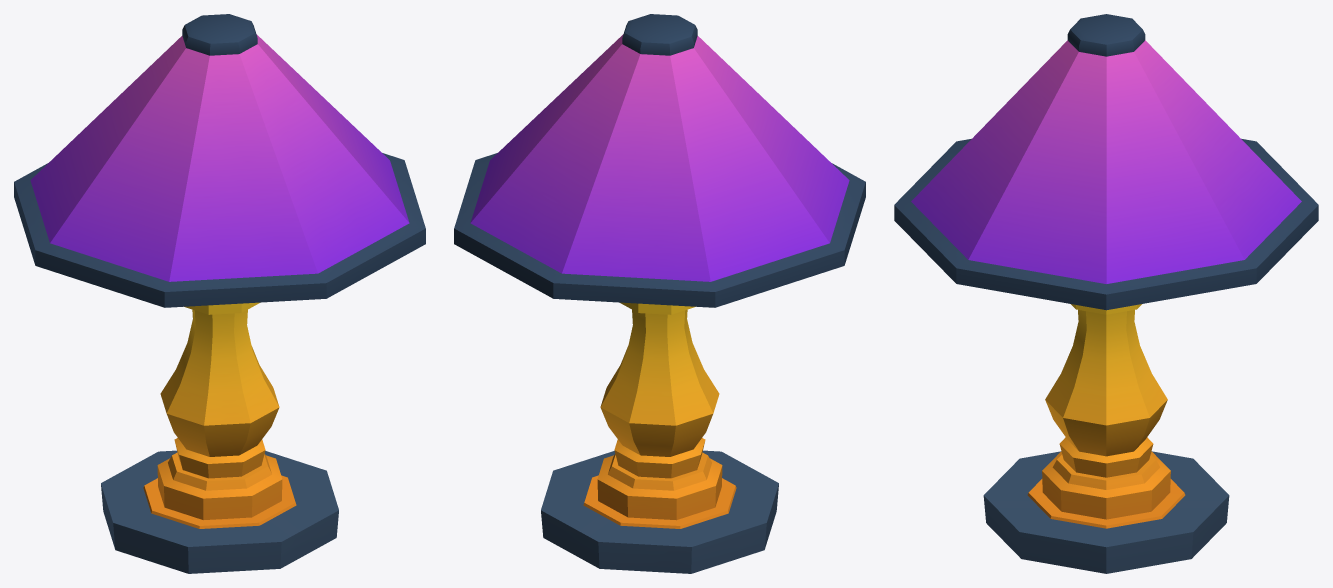
The model's file is lamp.glb.
3 views of the same model, side by side, from view 1: azimuth 30°, elevation 25°; view 2: azimuth 150°, elevation 25°; view 3: azimuth 270°, elevation 25° (orthographic).
Visible parts, largest first — view 1: Lamp1; view 2: Lamp1; view 3: Lamp1.
Boxes of the visible parts, box(x1,y1,x2,y2) form: Lamp1: box(14, 14, 425, 573); Lamp1: box(454, 14, 865, 573); Lamp1: box(894, 14, 1318, 573).
Size of the model in its own units: 0.5616 by 0.7237 by 0.5616.
Materials: 1 (1 with a texture image).
